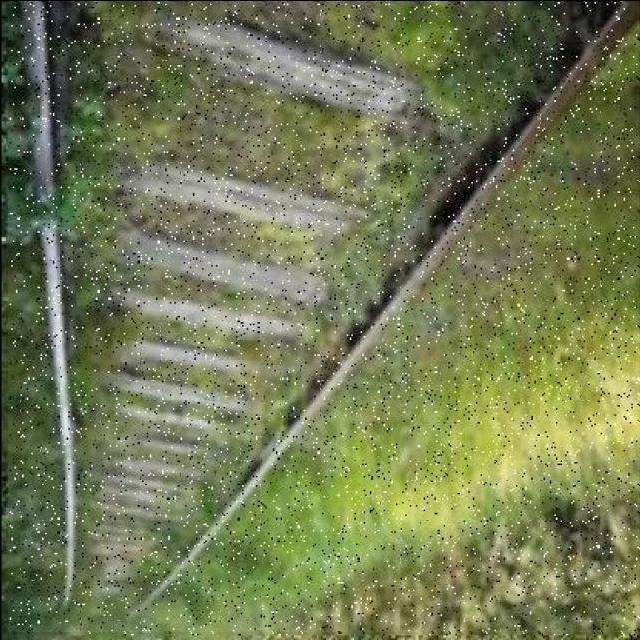rail: (10, 2, 640, 633)
